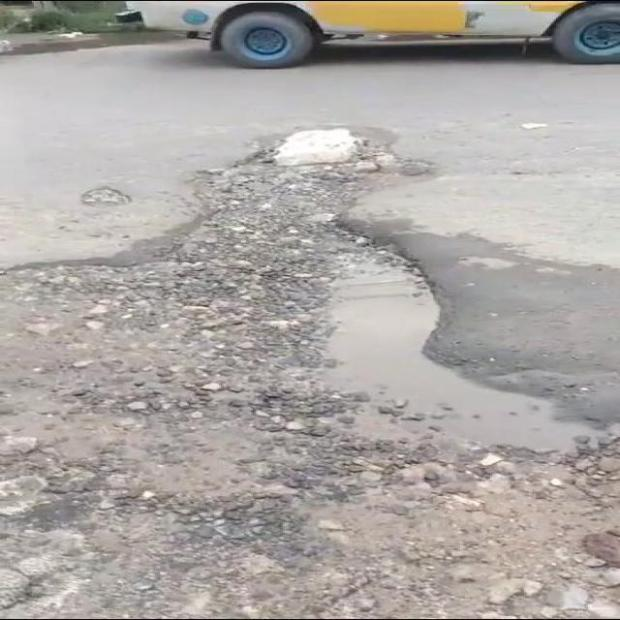lubang: (0, 146, 619, 616), (81, 185, 131, 206)
